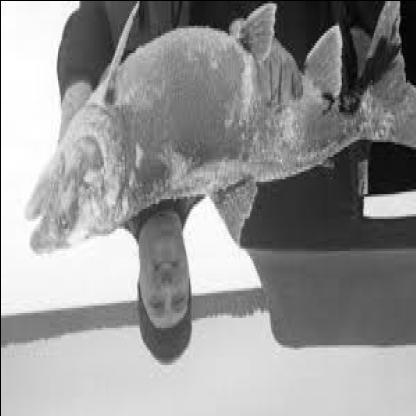fish: (28, 4, 416, 259)
